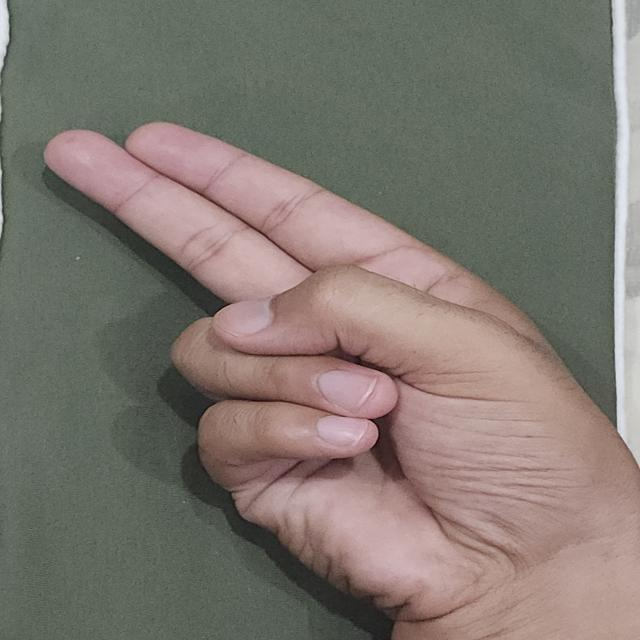ث: (24, 97, 640, 629)
